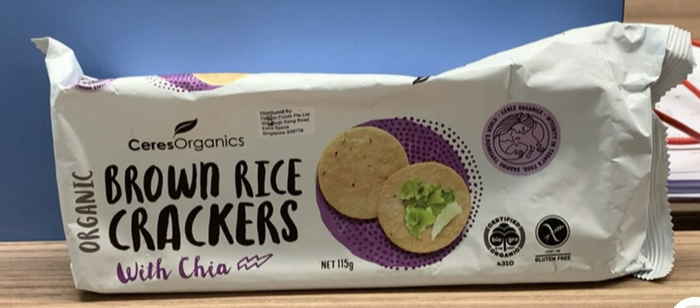crackers_150g: (69, 83, 649, 284)
